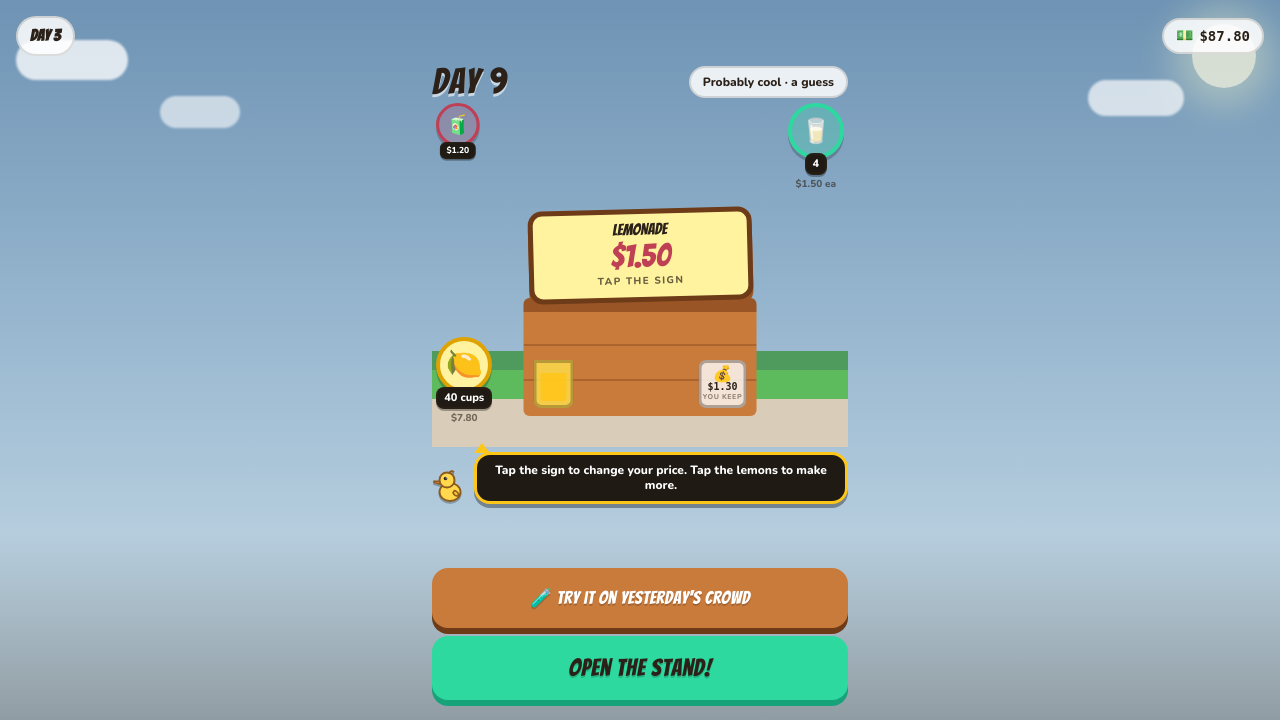
it: the panels behind the stand › opens the crate, the sign and the cash box
The image size is (1280, 720).
What coordinates should you click on to do the following:
click the button with aria-label "How much to make"
I would click on:
 (464, 382)
Its box is x1=436 y1=337 x2=492 y2=426.
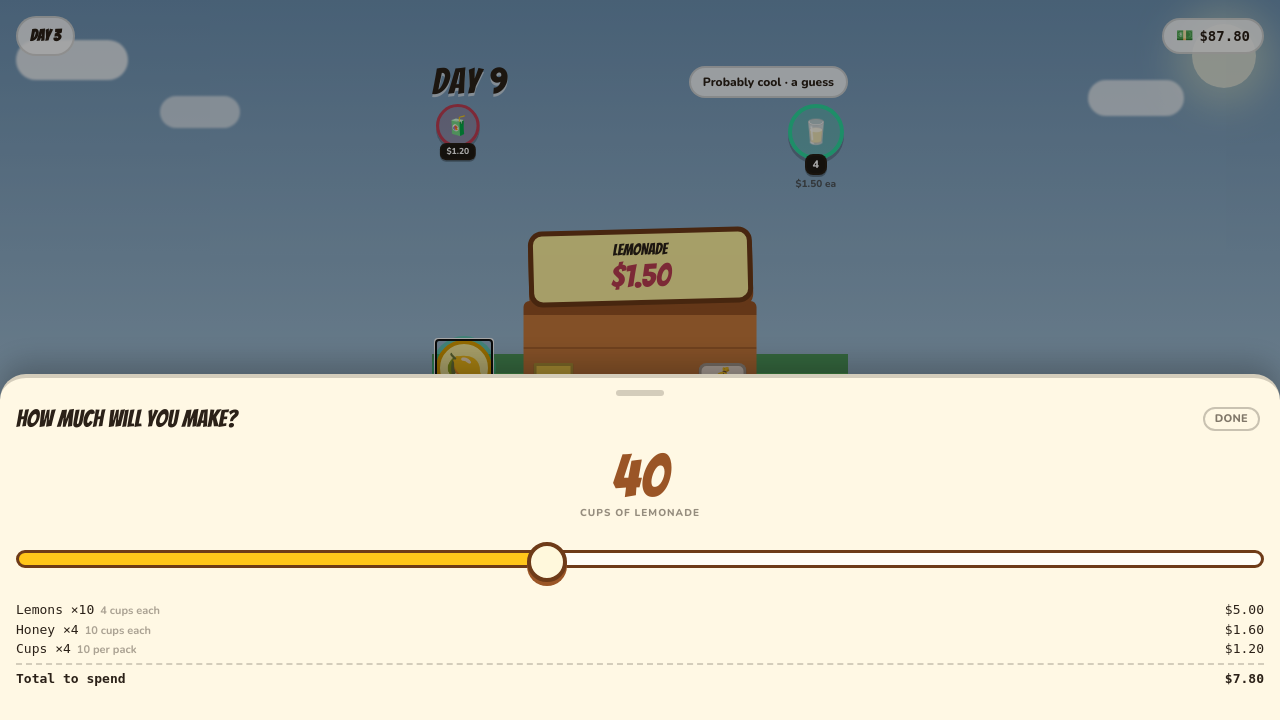
Expected: the slider named "batch size" is shown, x1=16 y1=537 x2=1264 y2=581
What coordinates should you click on to do the following:
click the button "Done"
I would click on:
 (1231, 419)
Its box is x1=1199 y1=397 x2=1264 y2=441.
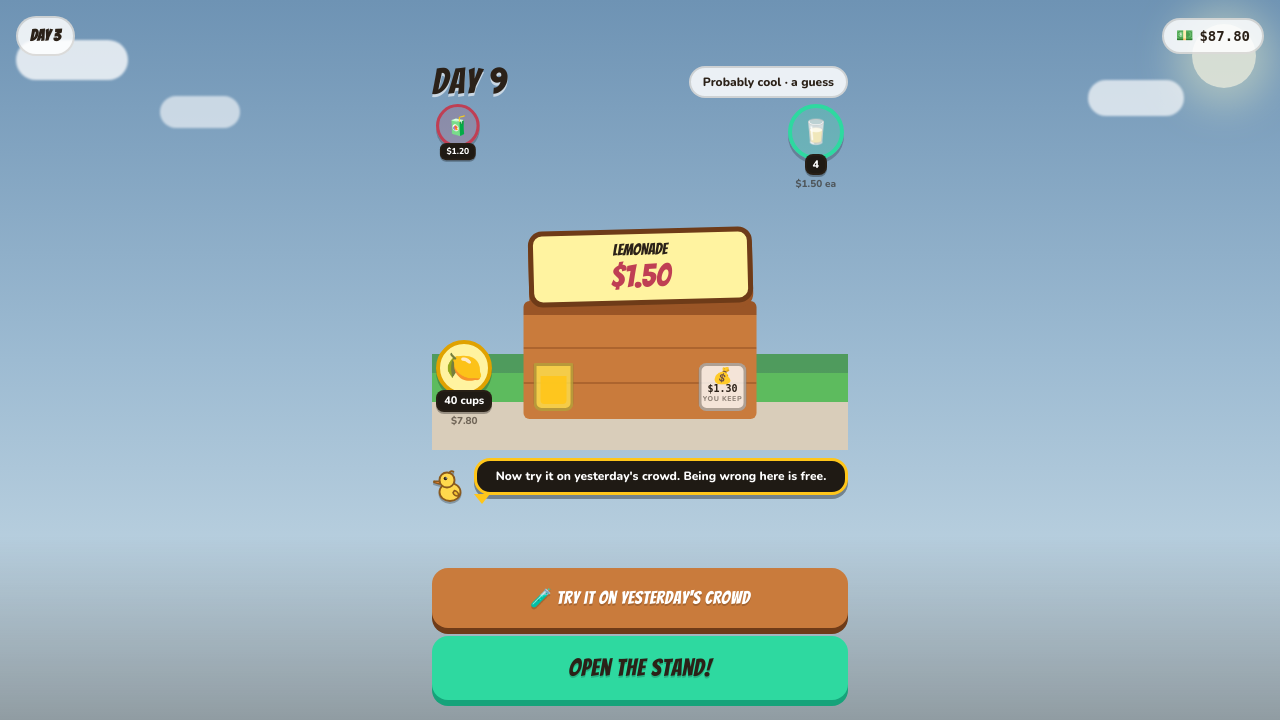
What coordinates should you click on to do the following:
click the button with aria-label "What to charge per cup"
I would click on:
 (640, 266)
Its box is x1=527 y1=226 x2=753 y2=307.
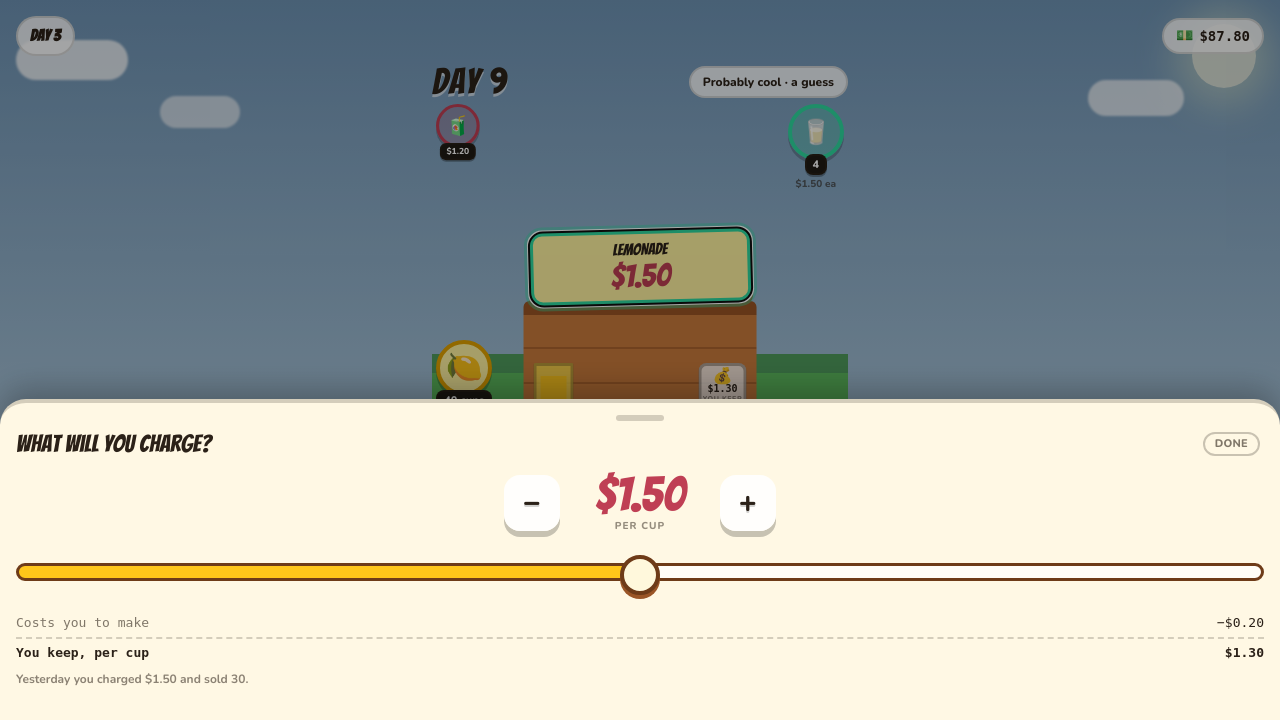
Expected: the slider named "price per cup" is shown, x1=16 y1=550 x2=1264 y2=594
